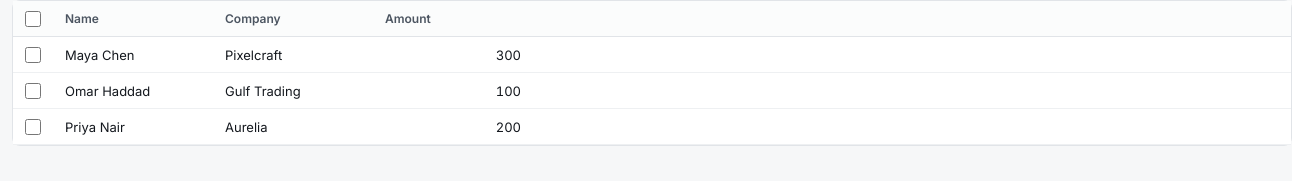
Test case: DataGrid (§9.10) › selects rows with checkboxes, Space and shift-click ranges
Click the checkbox named "Select Maya Chen".
click(33, 54)  # box [25,46,41,62]
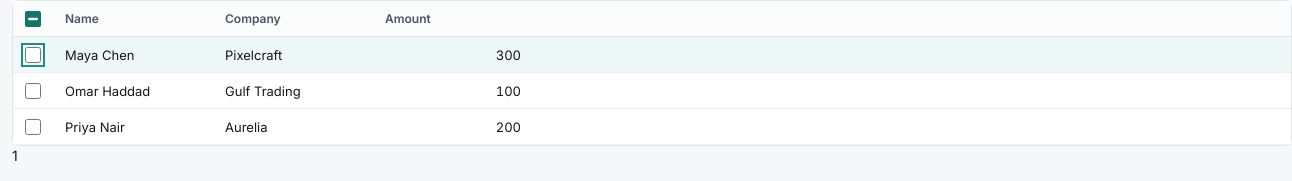
Click the checkbox named "Select Priya Nair".
click(33, 126)  # box [25,118,41,134]
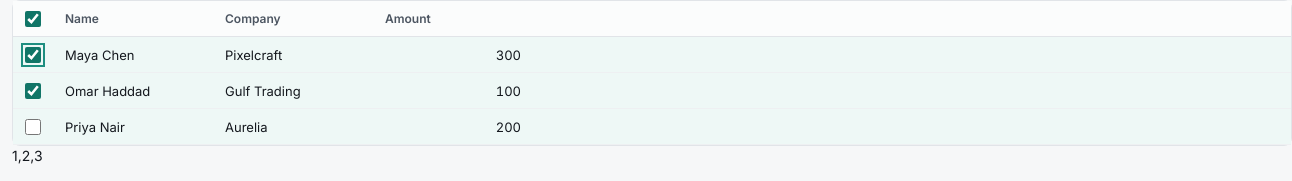
Expected: the text "1,2,3" is shown, [12,147,43,164]
Click the checkbox named "Select all rows".
click(33, 18)  # box [25,10,41,26]
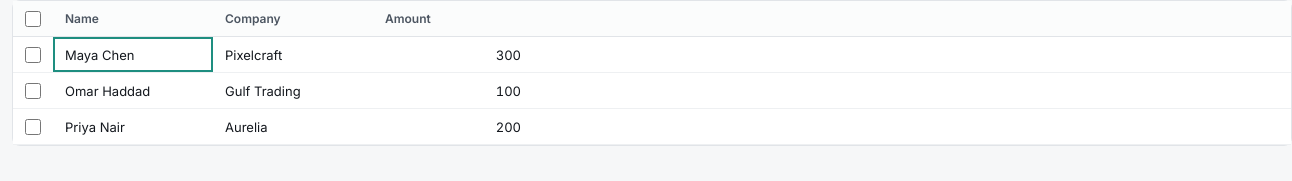
Type keys " "
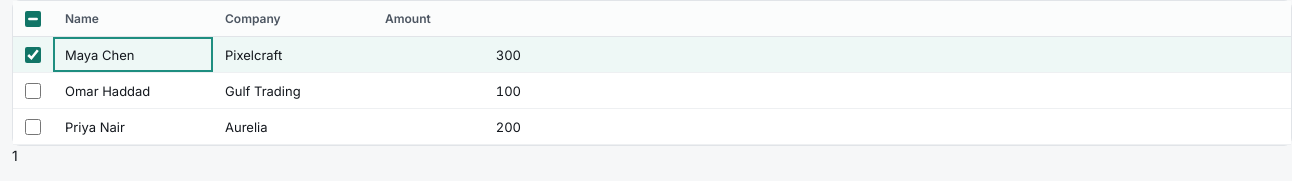
Expected: the text "1" is shown, [12,147,18,164]
